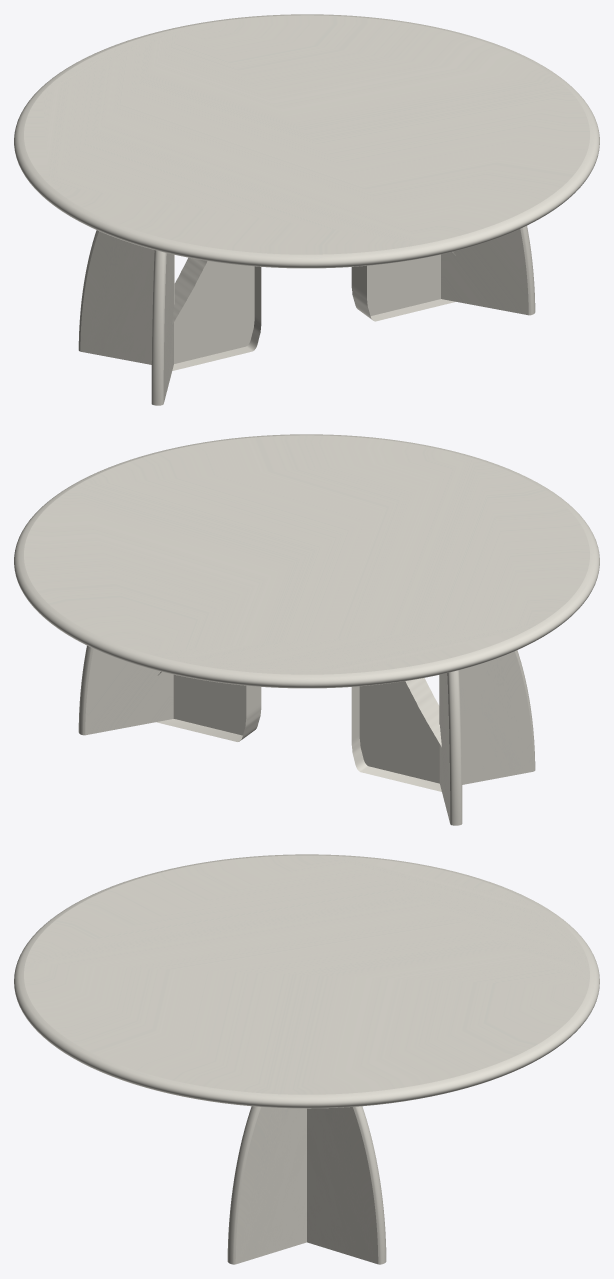
File: pale_round_round_plane.glb
3 renders of one model, top to bottom at view 1: azimuth 30°, elevation 25°; view 2: azimuth 150°, elevation 25°; view 3: azimuth 270°, elevation 25°, orthographic.
Parts seen in each view (by area): view 1: round_round, plane_single1, plane_singleleft1, plane_singleright2, plane_single2, plane_singleright1; view 2: round_round, plane_single1, plane_singleright1, plane_singleleft2, plane_single2, plane_singleleft1; view 3: round_round, plane_singleright2, plane_singleleft2.
Part boxes in pixels (<box>): round_round: <box>14,14,599,268</box>; plane_single1: <box>172,257,261,370</box>; plane_singleleft1: <box>78,230,174,364</box>; plane_singleright2: <box>441,225,535,315</box>; plane_single2: <box>351,252,455,321</box>; plane_singleright1: <box>151,250,173,405</box>; round_round: <box>14,434,599,688</box>; plane_single1: <box>351,678,441,791</box>; plane_singleright1: <box>439,650,535,784</box>; plane_singleleft2: <box>78,645,173,735</box>; plane_single2: <box>156,671,261,741</box>; plane_singleleft1: <box>439,670,462,825</box>; round_round: <box>14,854,599,1108</box>; plane_singleright2: <box>227,1106,306,1264</box>; plane_singleleft2: <box>307,1106,386,1264</box>.
Bounding box in the file's own units: 6.75 × 2.49 × 6.75.
1 material, 1 textured.
